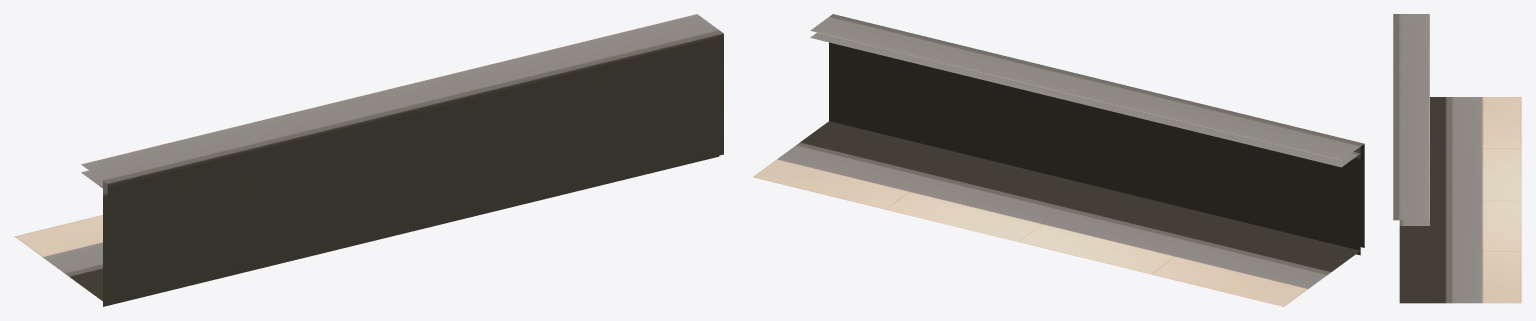
Rendered from front-fill.glb.
3 renders of one model, left to right at view 1: azimuth 30°, elevation 25°; view 2: azimuth 150°, elevation 25°; view 3: azimuth 270°, elevation 25°, orthographic. The views are drawn at different scales.
Visible parts, largest first — view 1: frontFill; view 2: frontFill; view 3: frontFill.
Part boxes in pixels (box(x1,y1,x2,y2)): frontFill: box(14, 14, 723, 306); frontFill: box(753, 14, 1364, 306); frontFill: box(1393, 14, 1521, 303).
Size of the model in its own units: 2.4 by 0.47 by 0.63.
Materials: 1 (1 with a texture image).
